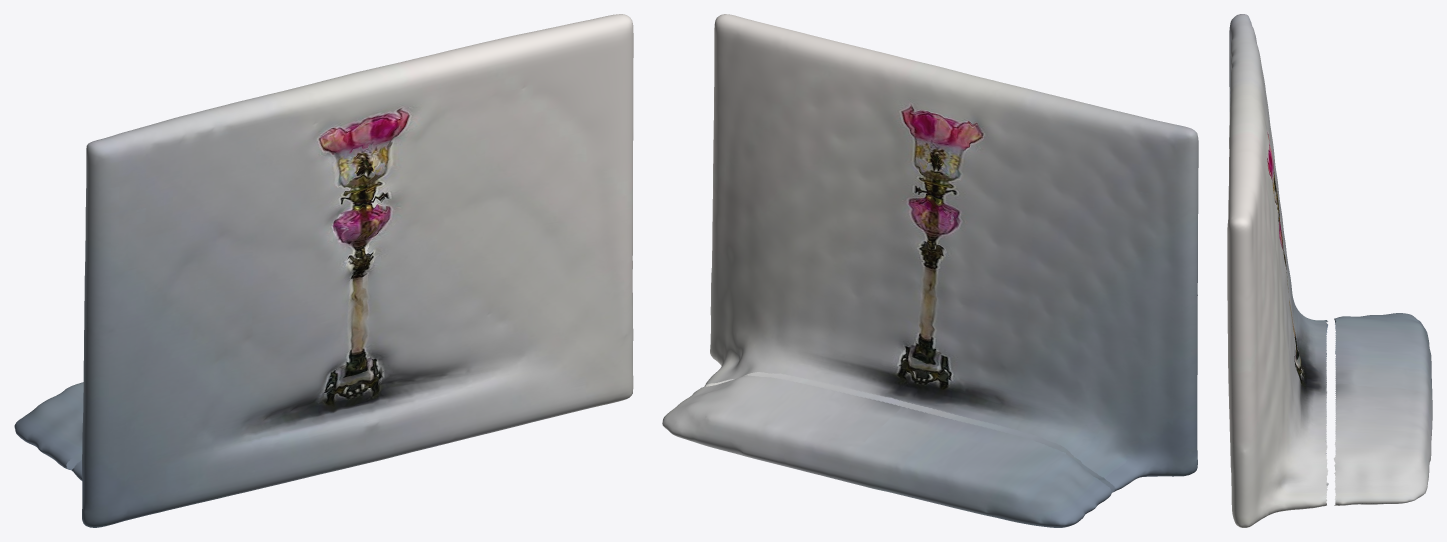
Rendered from kfl-2242.glb.
3 views of the same model, side by side, from view 1: azimuth 30°, elevation 25°; view 2: azimuth 150°, elevation 25°; view 3: azimuth 270°, elevation 25° (orthographic). The views are drawn at different scales.
Visible parts, largest first — view 1: geometry_0; view 2: geometry_0; view 3: geometry_0.
Boxes of the visible parts, left/top/right/bottom form: geometry_0: left=14, top=14, right=633, bottom=527; geometry_0: left=662, top=14, right=1198, bottom=527; geometry_0: left=1227, top=14, right=1432, bottom=527.
Bounding box in the file's own units: 0.9937 × 0.6746 × 0.4048.
1 material, 1 textured.
